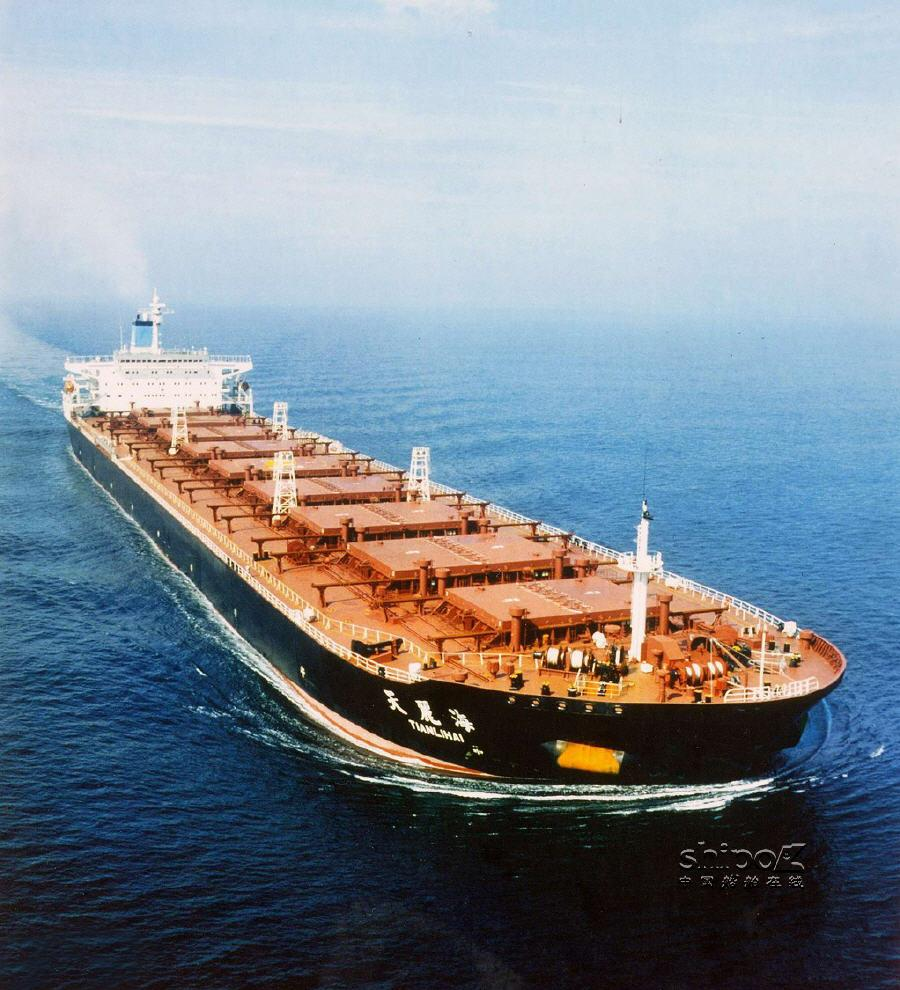Cargoship: (45, 287, 854, 806)
